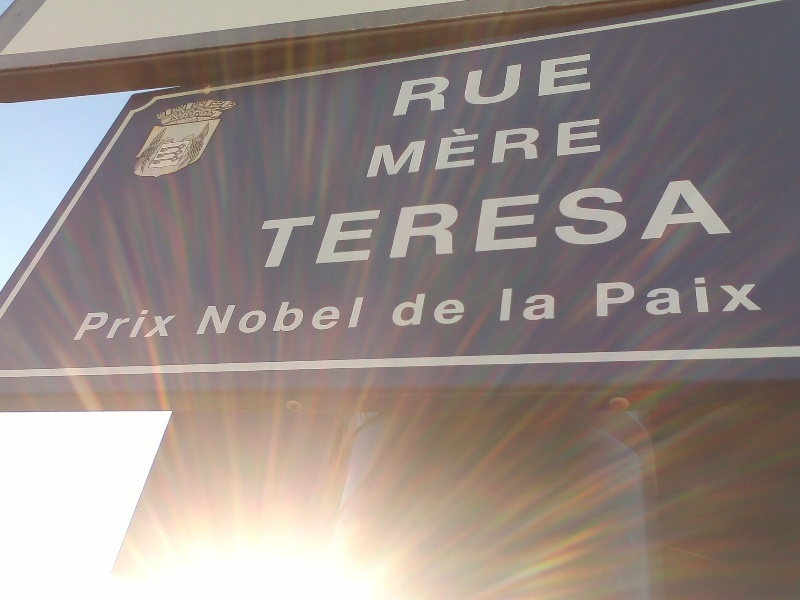text: (273, 179, 288, 269), (289, 179, 304, 269), (305, 179, 320, 269), (321, 179, 336, 269), (337, 179, 352, 269), (353, 179, 368, 269), (369, 179, 384, 269), (385, 179, 400, 269), (401, 179, 416, 269), (417, 179, 432, 269), (433, 179, 448, 269), (449, 179, 464, 269), (465, 179, 480, 269), (481, 179, 496, 269), (497, 179, 512, 269), (513, 179, 528, 269), (529, 179, 544, 269), (545, 179, 560, 269), (561, 179, 576, 269), (577, 179, 592, 269), (593, 179, 608, 269), (609, 179, 624, 269), (625, 179, 640, 269), (641, 179, 656, 269), (657, 179, 672, 269), (673, 179, 688, 269), (689, 179, 704, 269), (705, 179, 720, 269), (721, 179, 734, 269), (385, 110, 400, 179), (401, 110, 416, 179), (417, 110, 432, 179), (433, 110, 448, 179), (449, 110, 464, 179), (465, 110, 480, 179), (481, 110, 496, 179), (497, 110, 512, 179), (513, 110, 528, 179), (529, 110, 544, 179), (545, 110, 560, 179), (561, 110, 576, 179), (577, 110, 592, 179), (417, 53, 432, 117), (433, 53, 448, 117), (449, 53, 464, 117), (465, 53, 480, 117), (481, 53, 496, 117), (497, 53, 512, 117), (513, 53, 528, 117), (529, 53, 544, 117), (545, 53, 560, 117), (561, 53, 576, 117), (577, 53, 592, 117), (262, 179, 272, 269), (403, 53, 416, 117), (609, 272, 624, 318), (625, 272, 640, 318), (641, 272, 656, 318), (657, 272, 672, 318), (673, 272, 688, 318), (689, 272, 704, 318), (705, 272, 720, 318), (721, 272, 736, 318), (737, 272, 752, 318), (593, 110, 602, 179), (209, 297, 224, 335), (225, 297, 240, 335), (241, 297, 256, 335), (257, 297, 272, 335), (273, 297, 288, 335), (289, 297, 304, 335), (305, 297, 320, 335), (321, 297, 336, 335), (337, 297, 352, 335), (376, 110, 384, 179), (401, 291, 416, 327), (417, 291, 432, 327), (433, 291, 448, 327), (449, 291, 464, 327), (513, 287, 528, 322), (529, 287, 544, 322), (97, 308, 112, 342), (113, 308, 128, 342), (129, 308, 144, 342), (145, 308, 160, 342), (161, 308, 176, 342), (597, 272, 608, 318), (353, 297, 366, 335), (753, 272, 763, 318), (545, 287, 557, 322), (502, 287, 512, 322), (89, 308, 96, 342), (177, 109, 192, 122), (193, 109, 208, 122), (465, 291, 469, 327), (177, 308, 181, 342), (397, 291, 400, 327), (209, 109, 217, 122), (171, 109, 176, 122), (593, 53, 594, 117)
